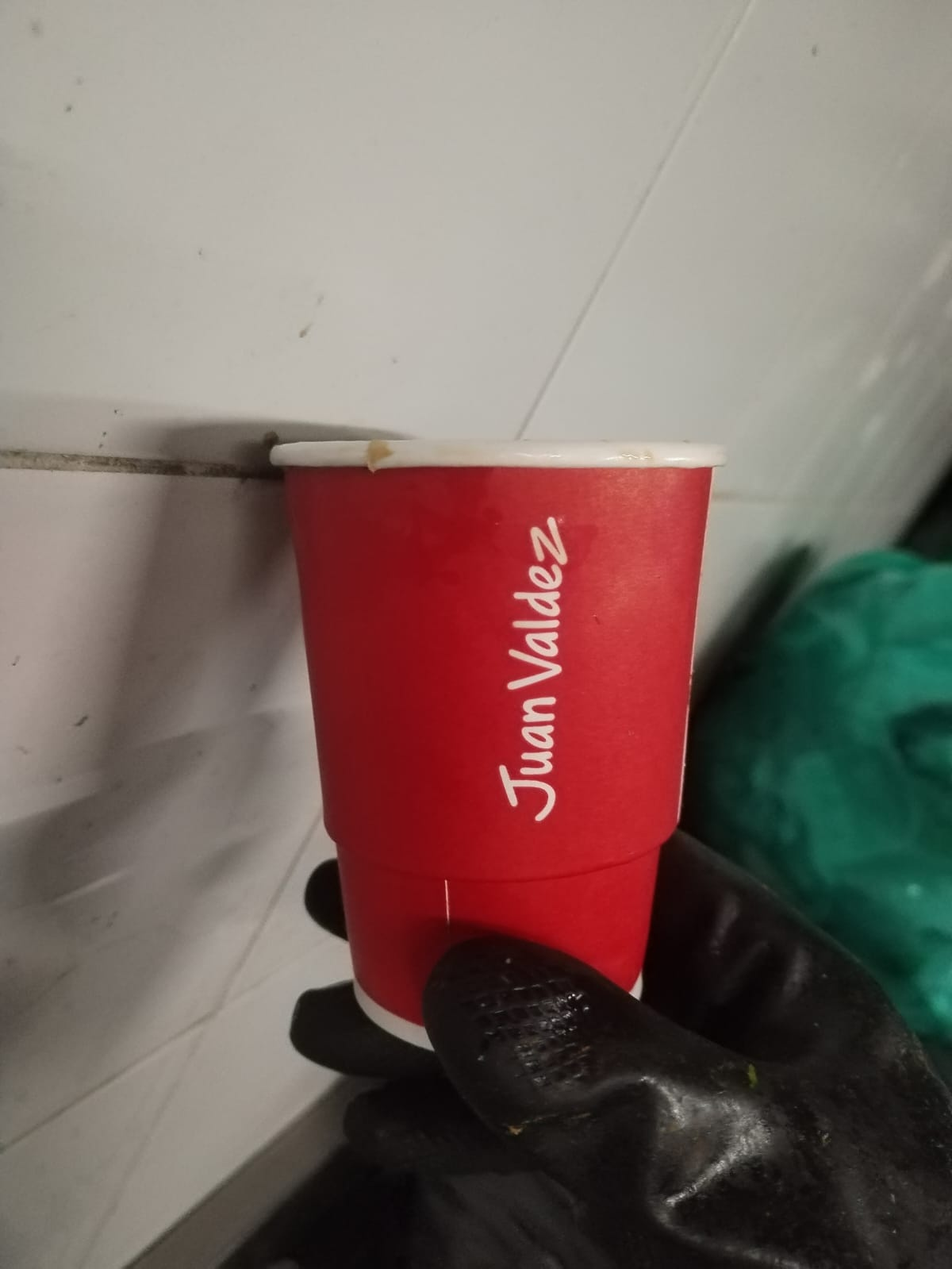Carton: (272, 435, 720, 1058)
